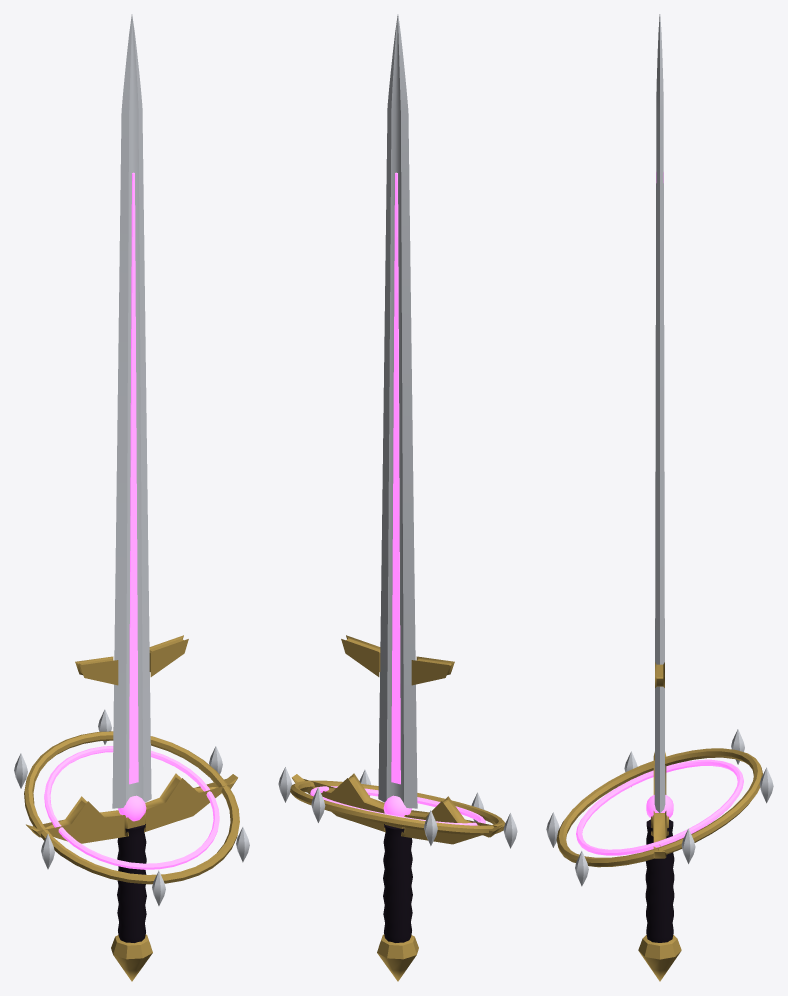
Rendered from esc_w_knight_sword_9.glb.
The picture shows the model from 3 angles, left to right: view 1: azimuth 30°, elevation 25°; view 2: azimuth 150°, elevation 25°; view 3: azimuth 270°, elevation 25°; orthographic projection.
Parts seen in each view (by area): view 1: esc_w_knight_sword_9; view 2: esc_w_knight_sword_9; view 3: esc_w_knight_sword_9.
Boxes of the visible parts, x1,y1,x2,y2 form: esc_w_knight_sword_9: [14, 14, 249, 981]; esc_w_knight_sword_9: [278, 14, 517, 981]; esc_w_knight_sword_9: [546, 14, 773, 981].
Bounding box in the file's own units: 0.2987 × 1.32 × 0.2817.
